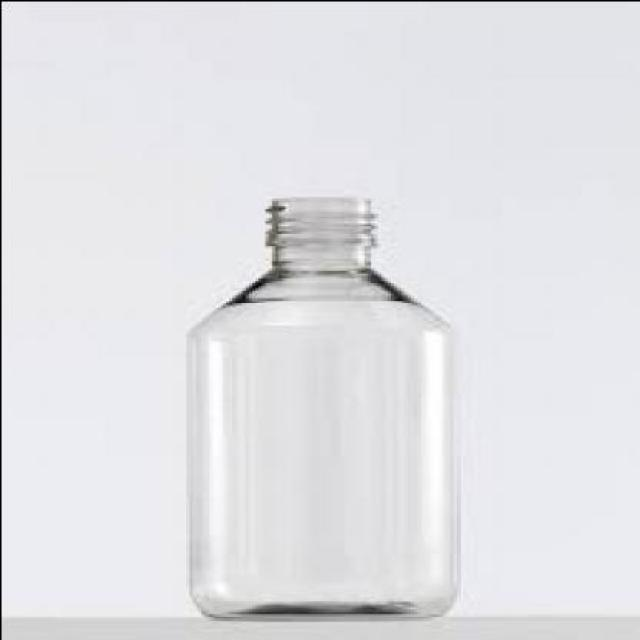glass: (185, 195, 452, 614)
